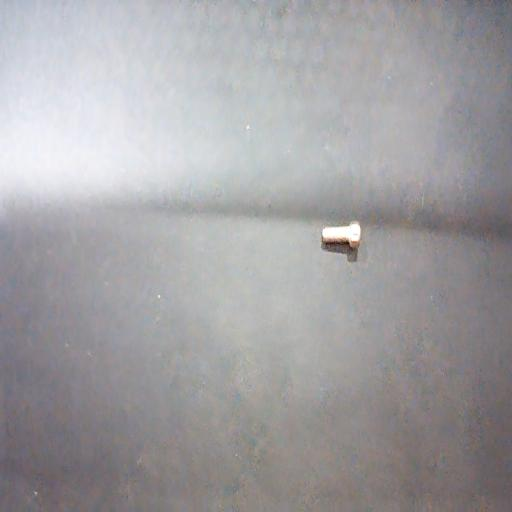screw: (322, 221, 361, 249)
